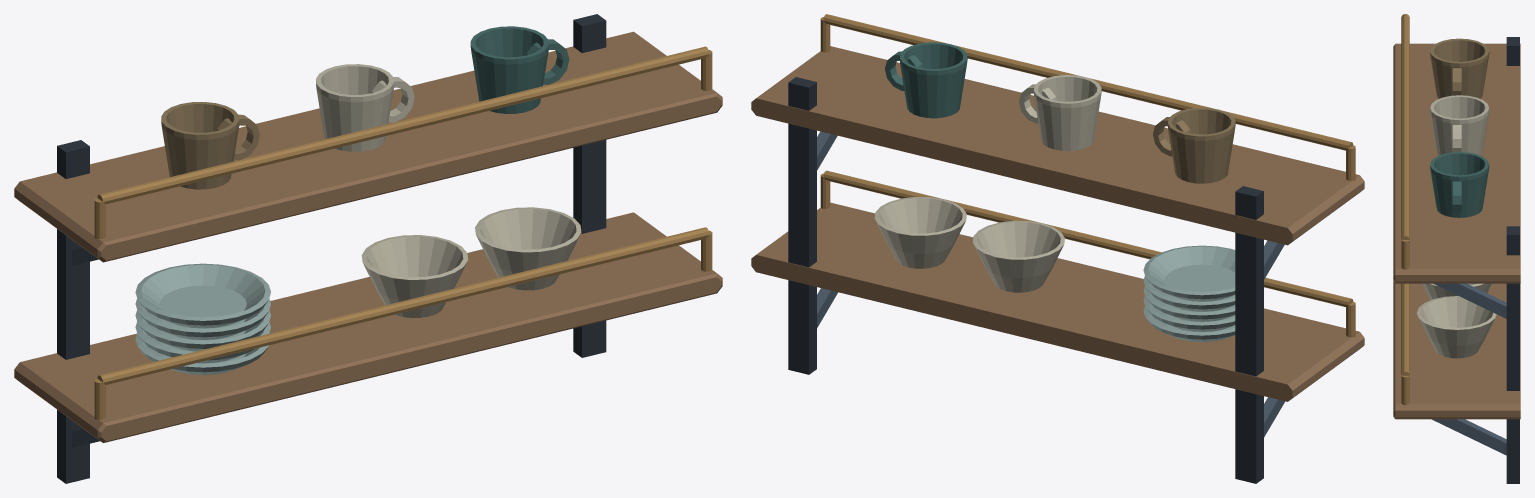
Rendered from A-08c_crockery_shelf.glb.
The picture shows the model from 3 angles, left to right: view 1: azimuth 30°, elevation 25°; view 2: azimuth 150°, elevation 25°; view 3: azimuth 270°, elevation 25°; orthographic projection. The views are drawn at different scales.
Visible parts, largest first — view 1: A-08c_crockery_shelf; view 2: A-08c_crockery_shelf; view 3: A-08c_crockery_shelf.
Part boxes in pixels (box(x1,y1,x2,y2)): A-08c_crockery_shelf: box(14, 14, 722, 483); A-08c_crockery_shelf: box(751, 14, 1364, 483); A-08c_crockery_shelf: box(1393, 14, 1520, 483).
Size of the model in its own units: 1.01 by 0.561 by 0.237.
